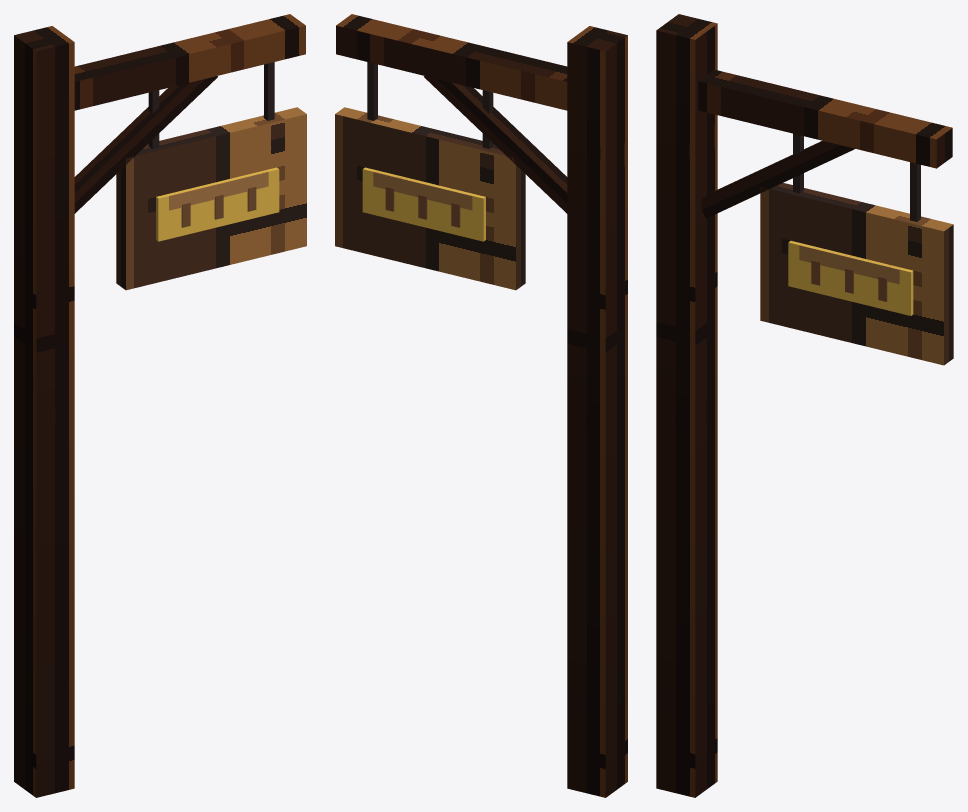
File: sign.glb
3 views of the same model, side by side, from view 1: azimuth 30°, elevation 25°; view 2: azimuth 150°, elevation 25°; view 3: azimuth 330°, elevation 25° (orthographic).
Visible parts, largest first — view 1: sign; view 2: sign; view 3: sign.
Boxes of the visible parts, bbox=[...] form: sign: bbox=[14, 14, 306, 797]; sign: bbox=[335, 14, 627, 797]; sign: bbox=[656, 14, 953, 797].
Size of the model in its own units: 1.01 by 2.6 by 0.14.
2 materials, 1 textured.
